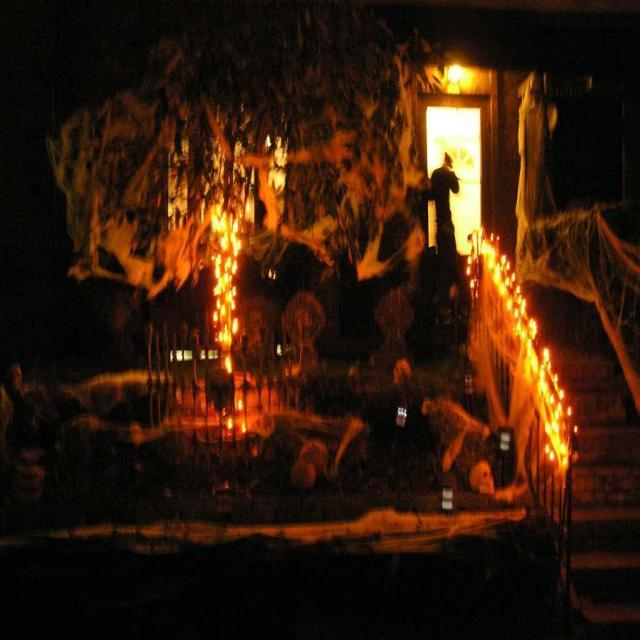Fire: (428, 107, 482, 169), (453, 177, 478, 251)
